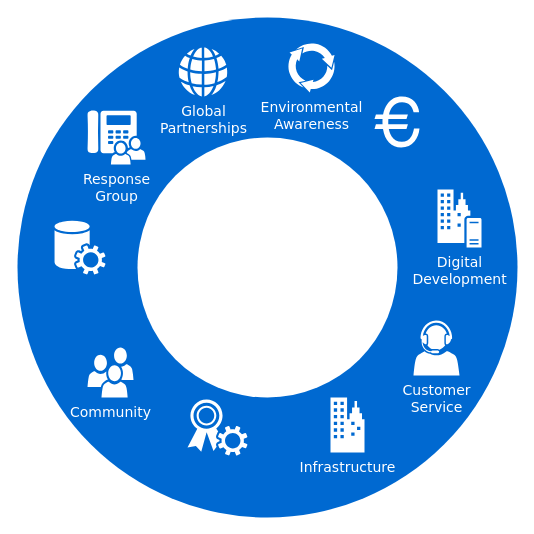
This 534x534 diagram has some shape labels left out. The centre of each missing label's shape, as x and y in pixels:
Eftech.Factory: the point at 267,267
Finance: the point at 396,121
Technology Certificates: the point at 217,427
Workflow System: the point at 79,247
